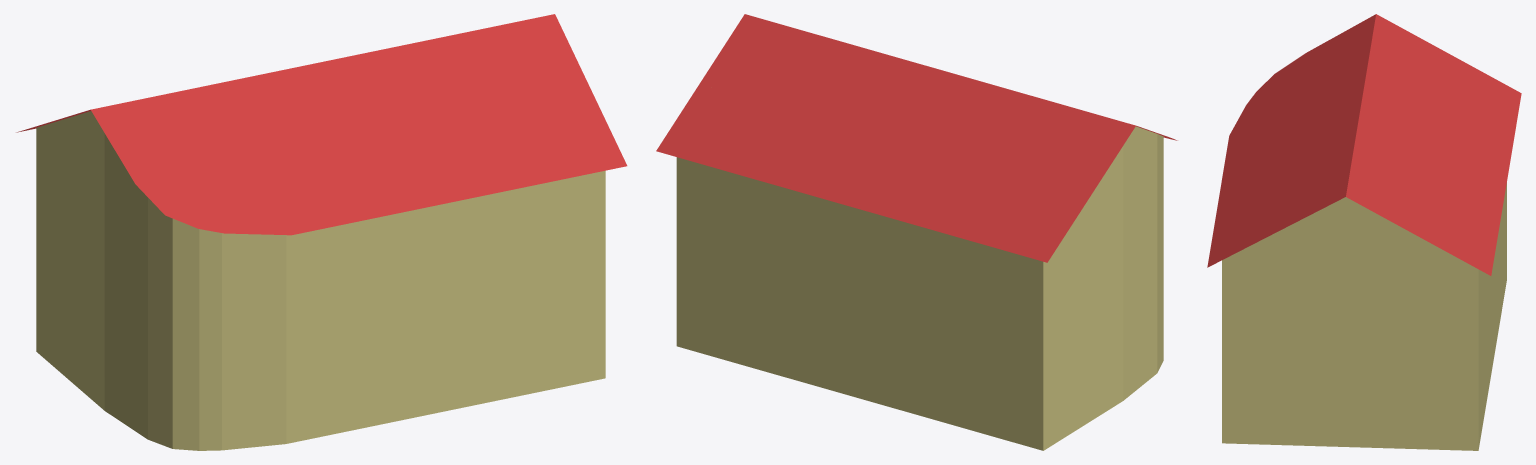
3 views of the same model, side by side, from view 1: azimuth 30°, elevation 25°; view 2: azimuth 150°, elevation 25°; view 3: azimuth 270°, elevation 25° (orthographic). The views are drawn at different scales.
Size of the model in its own units: 16.19 by 11.49 by 10.32.
